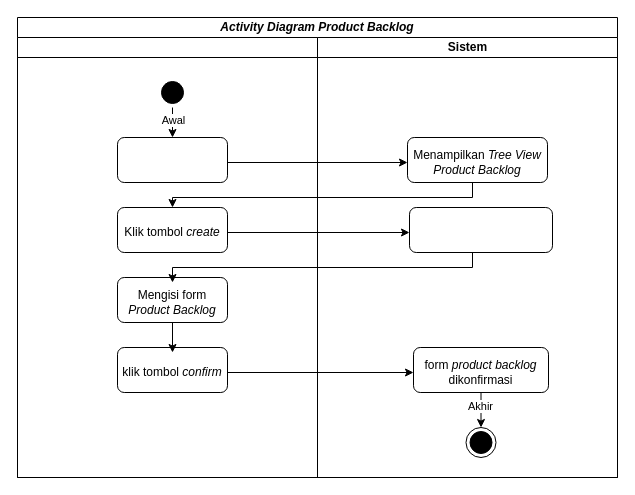
This 635x495 diagram has some shape labels left out. Each missing label, with the box of its shape:
Buka menu Product Backlog: (116, 136, 228, 182)
Menampilkan Form View Product Backlog: (408, 206, 552, 252)
Project Manager: (16, 36, 318, 478)
